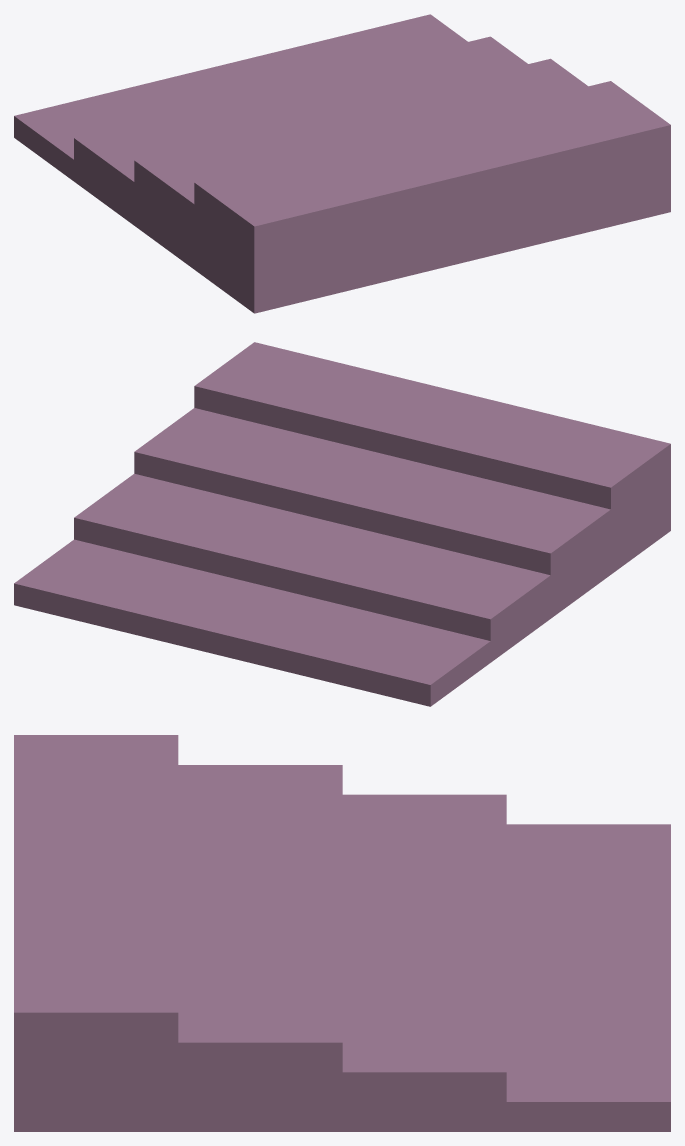
Rendered from alien-biosphere-terraces-tile-90b3771e__22759.glb.
3 views of the same model, one above another, from view 1: azimuth 30°, elevation 25°; view 2: azimuth 150°, elevation 25°; view 3: azimuth 270°, elevation 25° (orthographic). The views are drawn at different scales.
Visible parts, largest first — view 1: terraces-tile; view 2: terraces-tile; view 3: terraces-tile.
Boxes of the visible parts, bbox=[...] form: terraces-tile: bbox=[14, 14, 670, 313]; terraces-tile: bbox=[14, 342, 670, 706]; terraces-tile: bbox=[14, 735, 670, 1131].
Size of the model in its own units: 4 by 0.7998 by 4.
